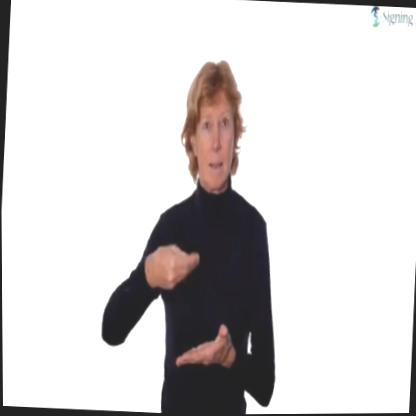Expensive: (138, 235, 249, 383)
